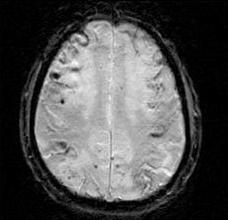Normal_Brain: (2, 1, 228, 220)
